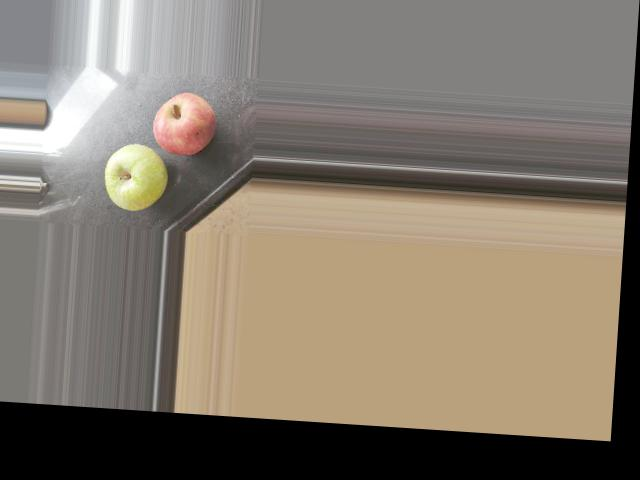apple: (149, 88, 220, 154)
